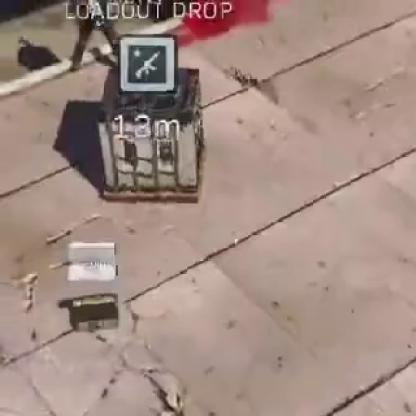enemy: (68, 0, 122, 70)
